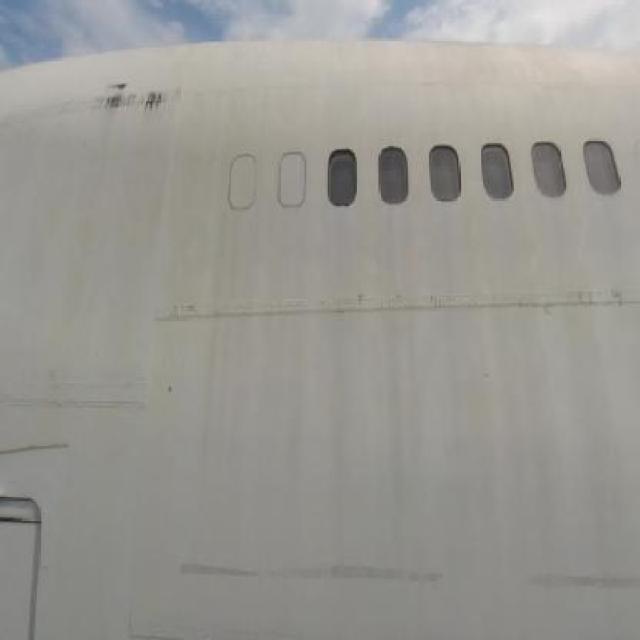Rust: (92, 80, 194, 132)
Scartch: (172, 528, 640, 614)
